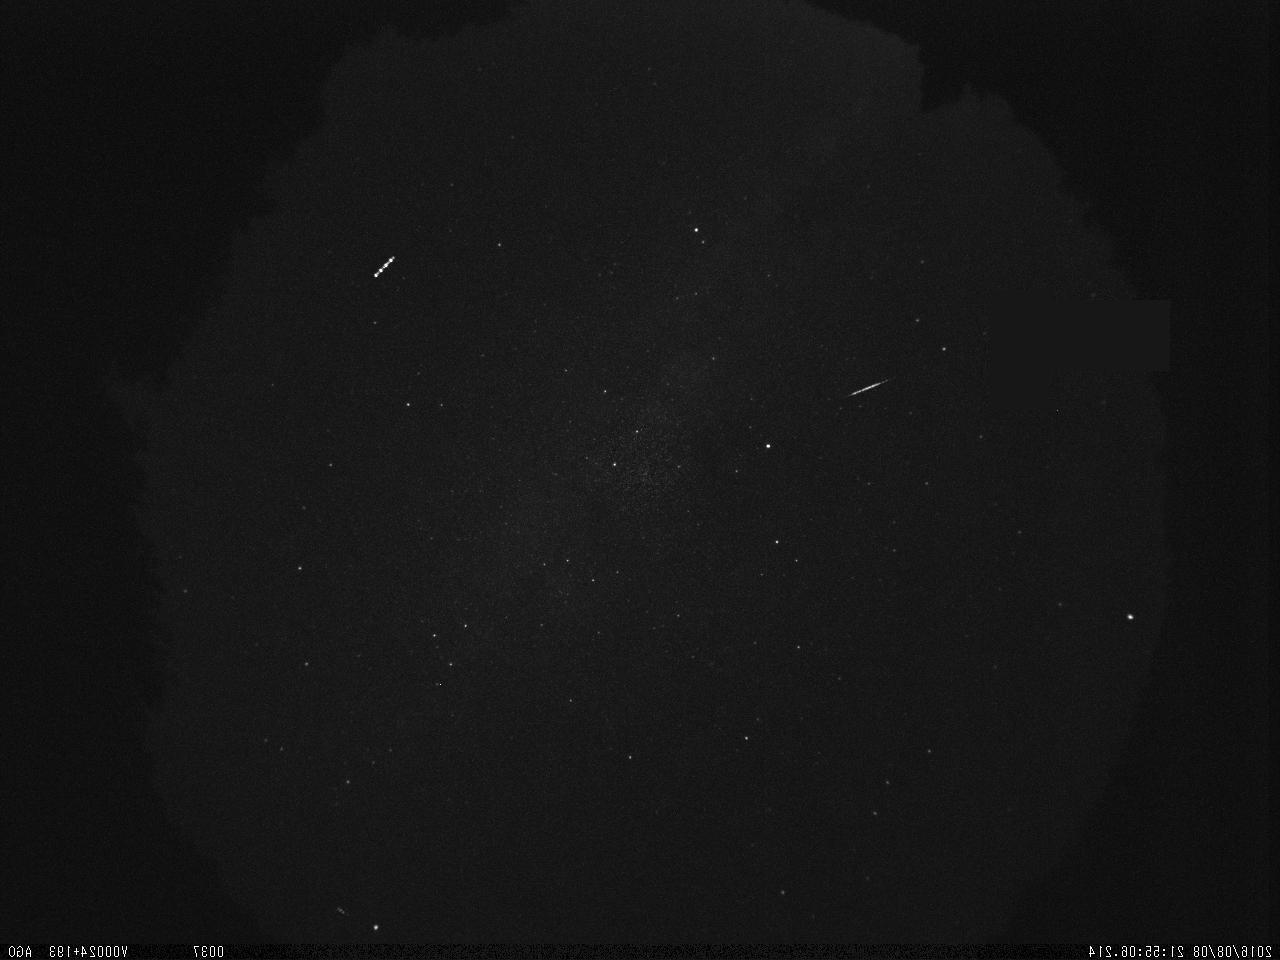meteor: (842, 369, 897, 403)
satelite: (365, 245, 403, 284)
